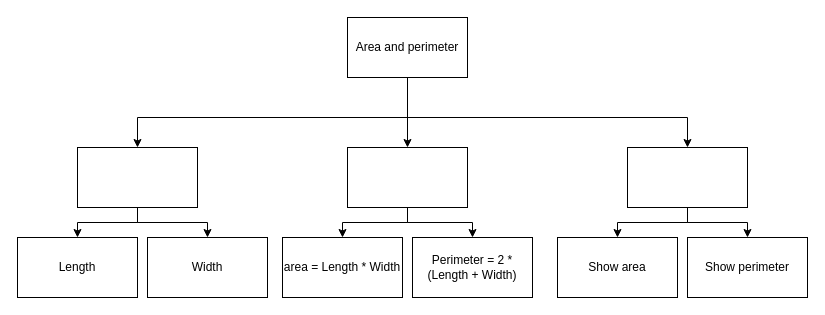
This 825x315 diagram has some shape labels left out. Each missing label, with the centre of its shape:
"Input" belongs at (x=137, y=177).
"Output" belongs at (x=687, y=177).
"Process" belongs at (x=407, y=177).
